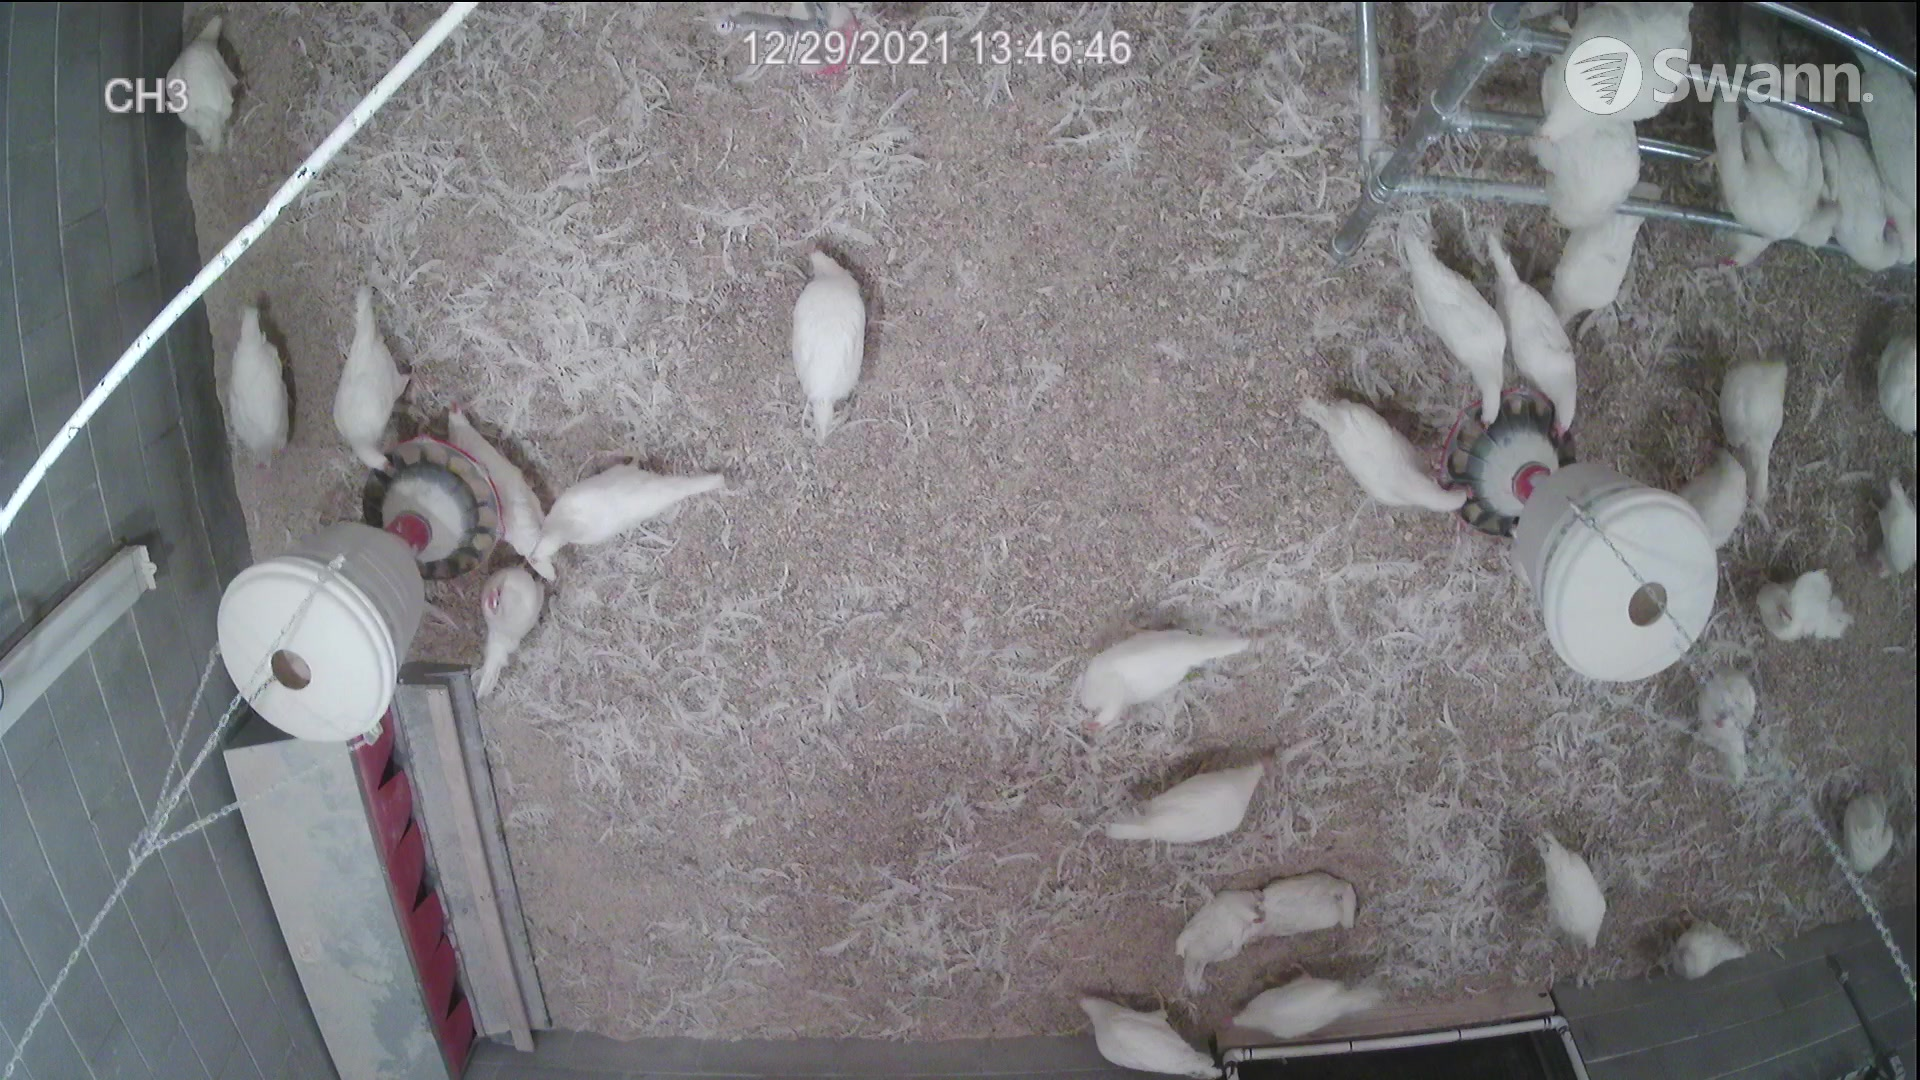Feeding: (1298, 385, 1486, 530), (1396, 232, 1513, 419), (1472, 240, 1577, 443), (334, 284, 406, 495)
Foraging: (790, 240, 872, 448), (1105, 760, 1283, 851), (219, 294, 298, 476), (1080, 992, 1225, 1080), (160, 11, 240, 146), (1534, 825, 1607, 948)
Perching: (1539, 0, 1688, 123), (1837, 8, 1909, 214), (1706, 112, 1811, 244), (1815, 135, 1894, 276), (1543, 108, 1639, 222)
Preening: (1837, 789, 1899, 880)
